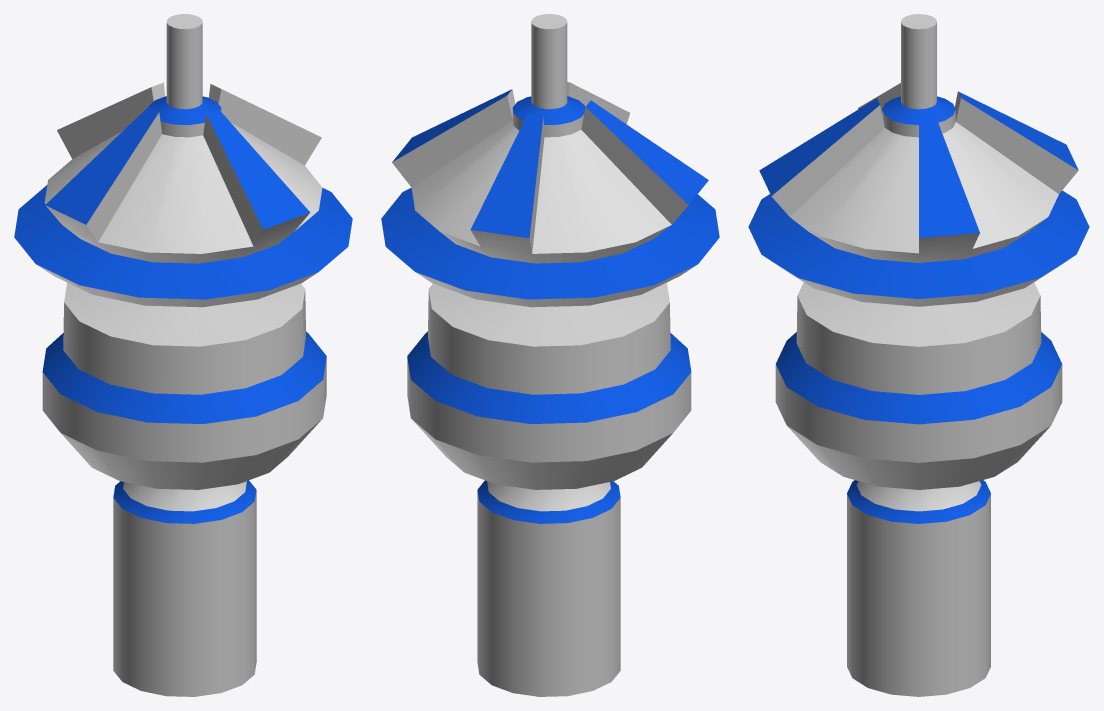
File: OxygenGenerator.fbx
3 renders of one model, left to right at view 1: azimuth 30°, elevation 25°; view 2: azimuth 150°, elevation 25°; view 3: azimuth 270°, elevation 25°, orthographic.
Parts seen in each view (by area): view 1: OxygenGenerator; view 2: OxygenGenerator; view 3: OxygenGenerator.
Part boxes in pixels (bbox=[...]): OxygenGenerator: bbox=[14, 14, 352, 696]; OxygenGenerator: bbox=[381, 14, 719, 696]; OxygenGenerator: bbox=[748, 14, 1089, 696].
Size of the model in its own units: 65.44 by 136 by 65.44.
